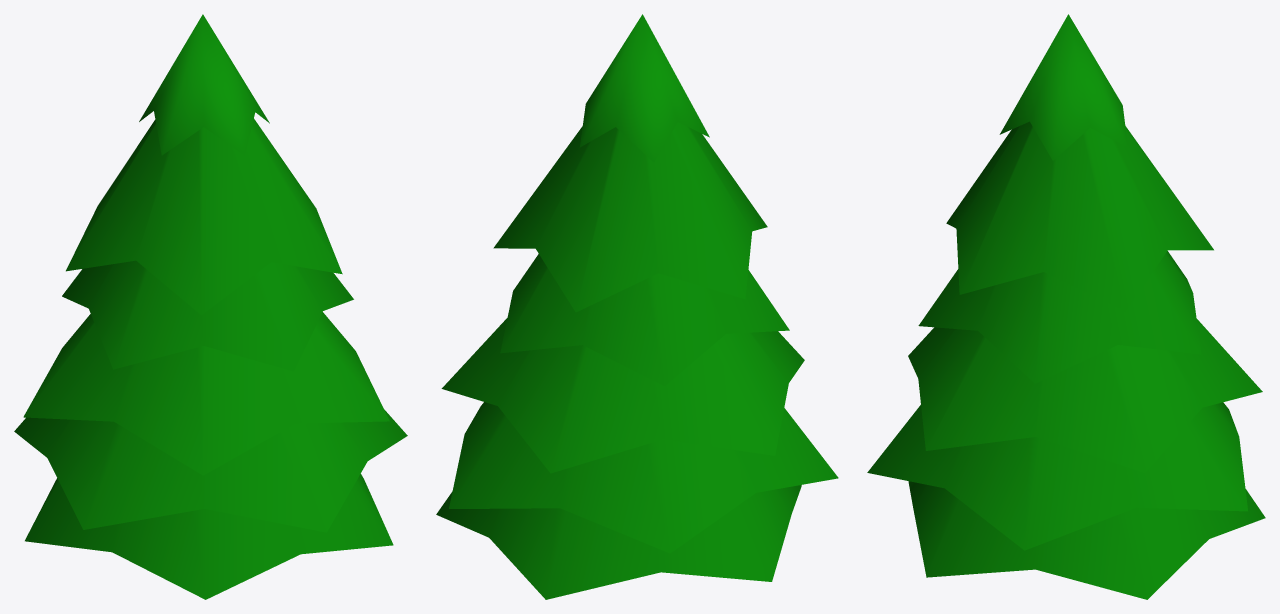
The model's file is tree7.fbx.
3 renders of one model, left to right at view 1: azimuth 30°, elevation 25°; view 2: azimuth 150°, elevation 25°; view 3: azimuth 270°, elevation 25°, orthographic.
Visible parts, largest first — view 1: Цилиндр.005; view 2: Цилиндр.005; view 3: Цилиндр.005.
Part boxes in pixels (x1=…): Цилиндр.005: x1=14, y1=14, x2=407, y2=599; Цилиндр.005: x1=436, y1=14, x2=838, y2=599; Цилиндр.005: x1=867, y1=14, x2=1265, y2=599.
Bounding box in the file's own units: 501 × 728 × 511.
